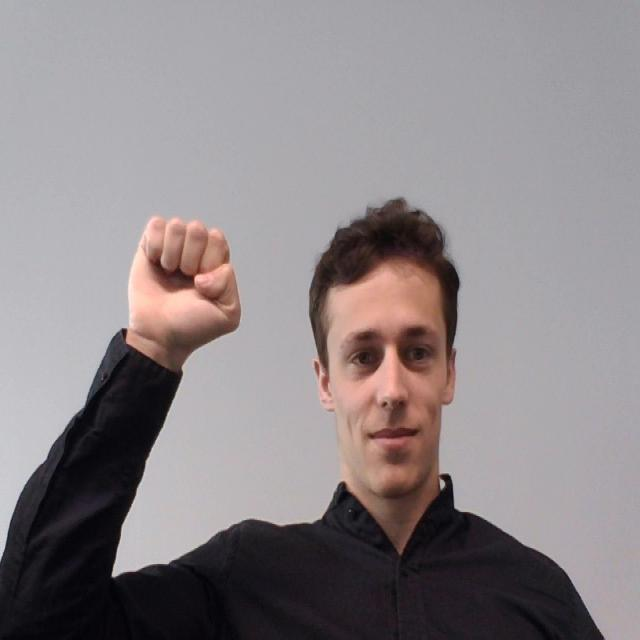stop: (130, 198, 248, 355)
